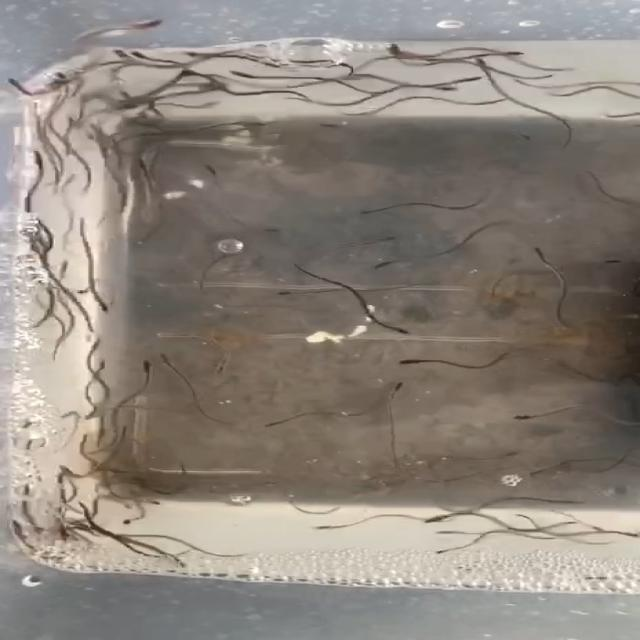inactive_glass_eel: (368, 354, 441, 378), (51, 461, 118, 487), (114, 12, 174, 34), (82, 288, 124, 319), (498, 404, 551, 428), (27, 147, 71, 175), (448, 53, 502, 74), (208, 111, 262, 132), (100, 45, 144, 68), (370, 316, 412, 338), (444, 70, 497, 87), (509, 124, 546, 148), (308, 121, 360, 138), (421, 514, 473, 531), (163, 552, 206, 571), (484, 41, 532, 58), (430, 82, 474, 100), (255, 221, 291, 243), (120, 156, 168, 172), (192, 153, 230, 173), (264, 283, 308, 300), (173, 51, 228, 64), (379, 378, 430, 392), (108, 514, 146, 532), (372, 234, 407, 252), (223, 68, 260, 85), (365, 256, 406, 271), (375, 41, 413, 57), (424, 542, 460, 558), (137, 354, 162, 377), (6, 76, 35, 95), (493, 445, 522, 464), (80, 332, 102, 357), (60, 70, 94, 86), (313, 522, 347, 538), (173, 68, 206, 81), (530, 242, 555, 257), (96, 360, 118, 377), (349, 209, 392, 217), (160, 345, 175, 365)
